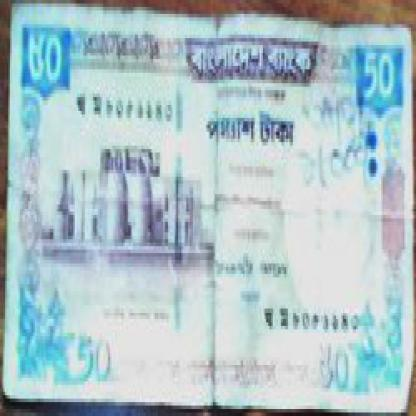Fifty taka: (311, 336, 350, 413), (22, 35, 65, 97)
